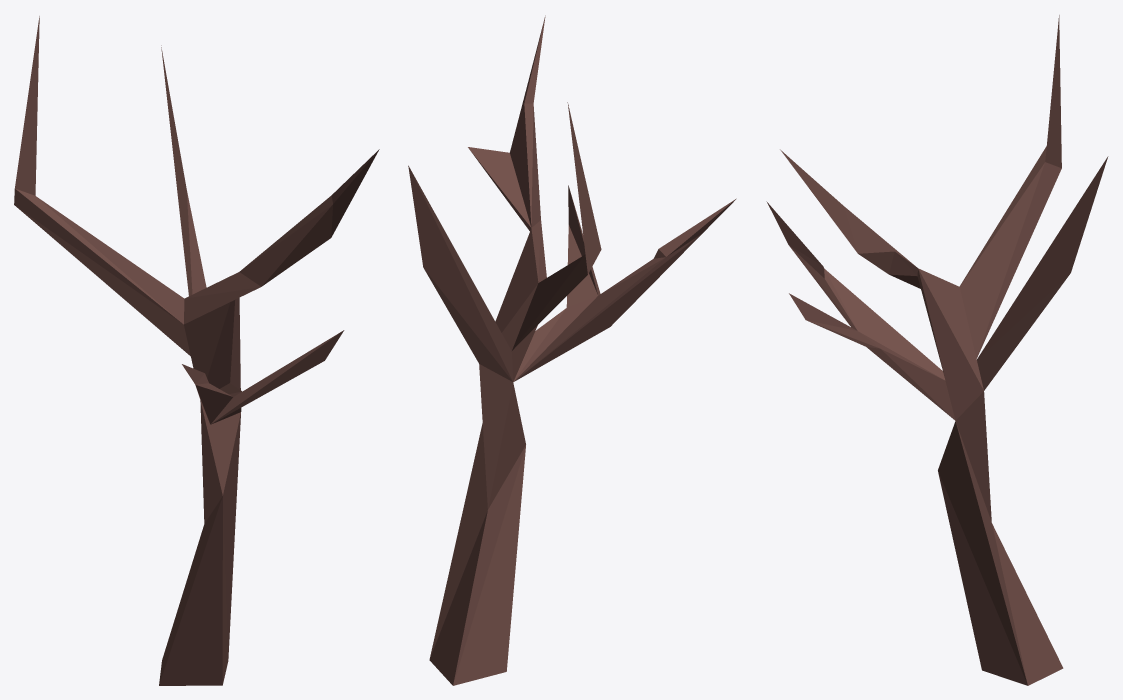
The model's file is CommonTree_Dead_5.lod3.glb.
The picture shows the model from 3 angles, left to right: view 1: azimuth 30°, elevation 25°; view 2: azimuth 150°, elevation 25°; view 3: azimuth 270°, elevation 25°; orthographic projection. The views are drawn at different scales.
Parts seen in each view (by area): view 1: CommonTree_Dead_5; view 2: CommonTree_Dead_5; view 3: CommonTree_Dead_5.
Part boxes in pixels (<box>): CommonTree_Dead_5: <box>14,16,379,685</box>; CommonTree_Dead_5: <box>408,15,736,685</box>; CommonTree_Dead_5: <box>766,15,1108,685</box>.
Bounding box in the file's own units: 0.8389 × 2.31 × 1.19.
